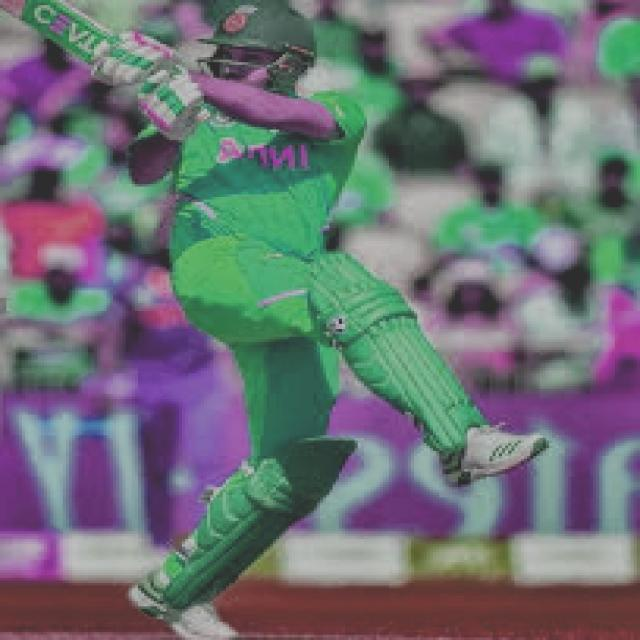toe: (0, 0, 58, 21)
